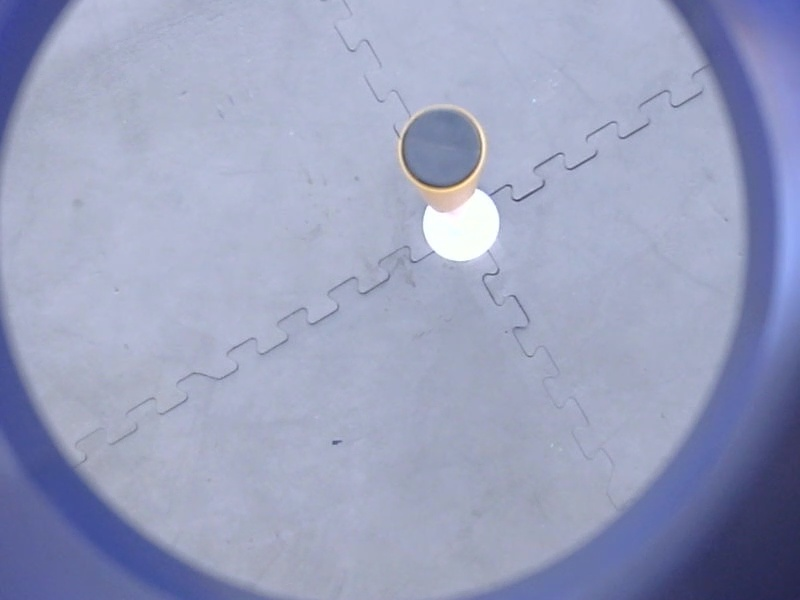tip: (392, 99, 492, 200)
